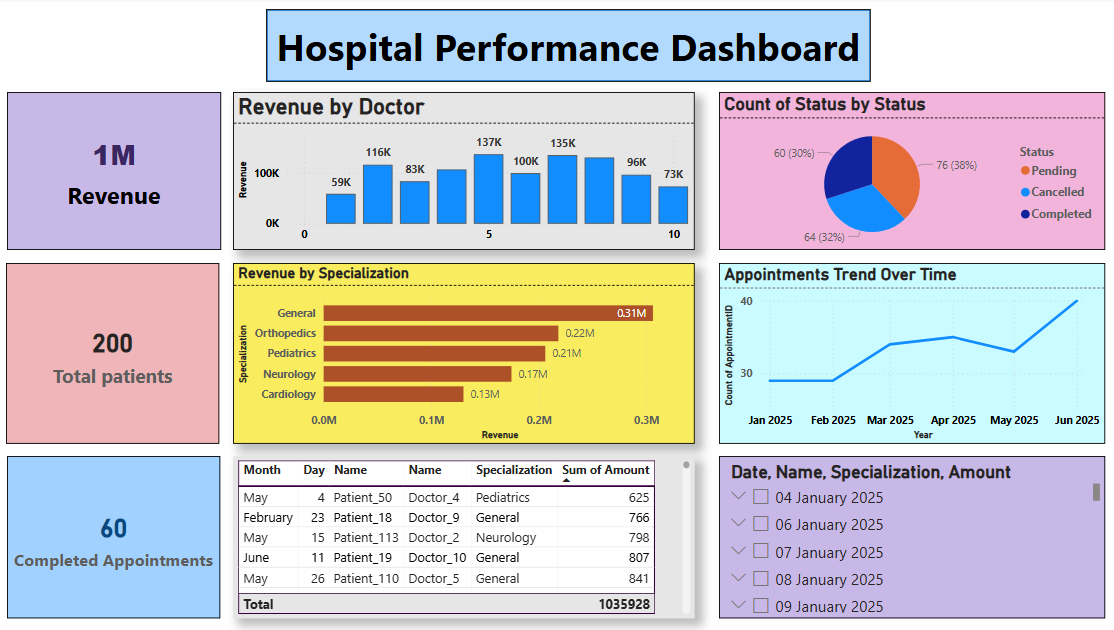

This screenshot's page, from the dashboard's own definition file:
{"tool":"powerbi","page":{"name":"Page 1","canvas":[1280,720],"ordinal":0},"visuals":[{"type":"card","fields":{"Values":["Billing.Revenue"]},"box":[11.4,107.1,243.8,180],"z":0},{"type":"card","fields":{"Values":["Patients.Total patients"]},"box":[10.3,301.9,242.7,206.2],"z":1000},{"type":"card","fields":{"Values":["Appointments.Completed Appointments"]},"box":[11.4,521.8,242.7,184.6],"z":2000},{"type":"columnChart","title":"Revenue by Doctor","fields":{"Y":["Billing.Revenue"],"Category":["Doctors.DoctorID"]},"box":[268.9,107.1,526.3,180],"z":3000},{"type":"pieChart","fields":{"Category":["Appointments.Status"],"Y":["CountNonNull(Appointments.Status)"]},"box":[822.5,107.1,439.7,180],"z":4000},{"type":"lineChart","title":"Appointments Trend Over Time ","fields":{"Y":["CountNonNull(Appointments.AppointmentID)"],"Category":["Appointments.Date.Variation.Date Hierarchy.Year","Appointments.Date.Variation.Date Hierarchy.Month"]},"box":[822.5,301.9,439.7,206.2],"z":5000},{"type":"barChart","fields":{"Category":["Doctors.Specialization"],"Y":["Billing.Revenue"]},"box":[268.9,301.9,526.3,206.2],"z":6000},{"type":"tableEx","fields":{"Values":["Appointments.Date.Variation.Date Hierarchy.Month","Appointments.Date.Variation.Date Hierarchy.Day","Patients.Name","Doctors.Name","Doctors.Specialization","Sum(Billing.Amount)"]},"box":[268.9,521.8,526.3,184.6],"z":7000},{"type":"slicer","fields":{"Values":["Appointments.Date","Doctors.Name","Doctors.Specialization","Billing.Amount"]},"box":[822.5,521.8,439.7,184.6],"z":8000},{"type":"shape","box":[306.5,12.5,689.2,83.2],"z":9000}]}

Visuals, with their boxes in screenshot pixels (x1, y1, x2, y2), scaled from the page's 1280x720 canvas onto the 1114x630 screenshot:
card - Billing.Revenue: (x1=10, y1=94, x2=222, y2=251)
card - Patients.Total patients: (x1=9, y1=264, x2=220, y2=445)
card - Appointments.Completed Appointments: (x1=10, y1=457, x2=221, y2=618)
"Revenue by Doctor" columnChart: (x1=234, y1=94, x2=692, y2=251)
pieChart - Appointments.Status x CountNonNull(Appointments.Status): (x1=716, y1=94, x2=1099, y2=251)
"Appointments Trend Over Time " lineChart: (x1=716, y1=264, x2=1099, y2=445)
barChart - Doctors.Specialization x Billing.Revenue: (x1=234, y1=264, x2=692, y2=445)
tableEx - Appointments.Date.Variation.Date Hierarchy.Month x Appointments.Date.Variation.Date Hierarchy.Day: (x1=234, y1=457, x2=692, y2=618)
slicer - Appointments.Date x Doctors.Name: (x1=716, y1=457, x2=1099, y2=618)
shape: (x1=267, y1=11, x2=867, y2=84)
